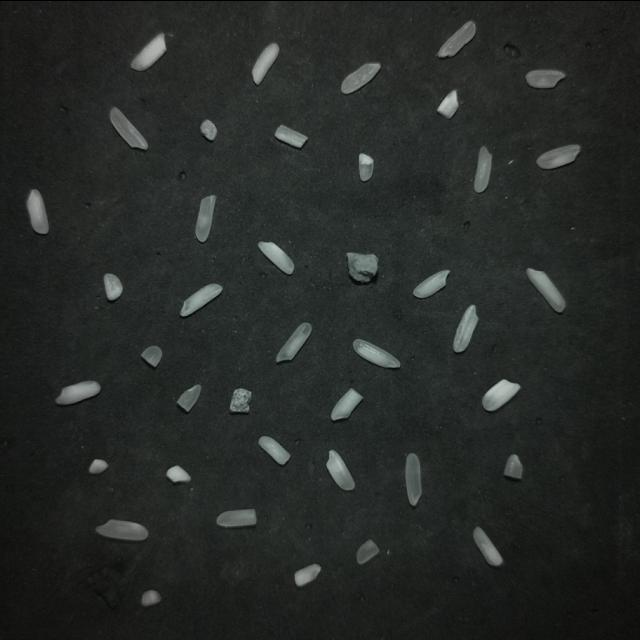broken: (275, 124, 308, 147), (526, 69, 566, 87), (177, 384, 201, 411), (103, 272, 123, 300), (357, 539, 379, 563), (141, 345, 163, 366), (504, 454, 523, 478), (359, 153, 374, 181), (200, 119, 218, 140), (141, 589, 161, 605)
chalky: (527, 268, 565, 311), (353, 338, 400, 367), (180, 283, 222, 315), (131, 32, 166, 70), (482, 379, 520, 410), (252, 42, 279, 84), (474, 526, 503, 565), (454, 304, 478, 351), (259, 241, 294, 273), (327, 449, 354, 489), (56, 380, 101, 404), (413, 269, 449, 297), (27, 189, 49, 233), (259, 436, 290, 464), (437, 89, 458, 118), (295, 563, 321, 585), (167, 465, 191, 482), (89, 458, 108, 473)
foreign: (347, 252, 378, 281), (230, 387, 252, 412)
whole: (110, 107, 148, 149), (438, 21, 476, 56), (277, 322, 311, 361), (341, 62, 381, 93), (96, 519, 148, 540), (331, 387, 363, 420), (537, 144, 580, 168), (195, 195, 216, 241), (405, 452, 421, 505), (474, 146, 491, 192), (217, 508, 256, 526)
